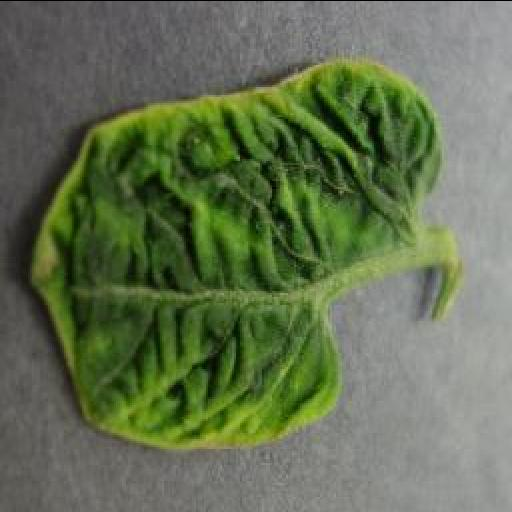disease_tomato: (32, 61, 446, 454)
